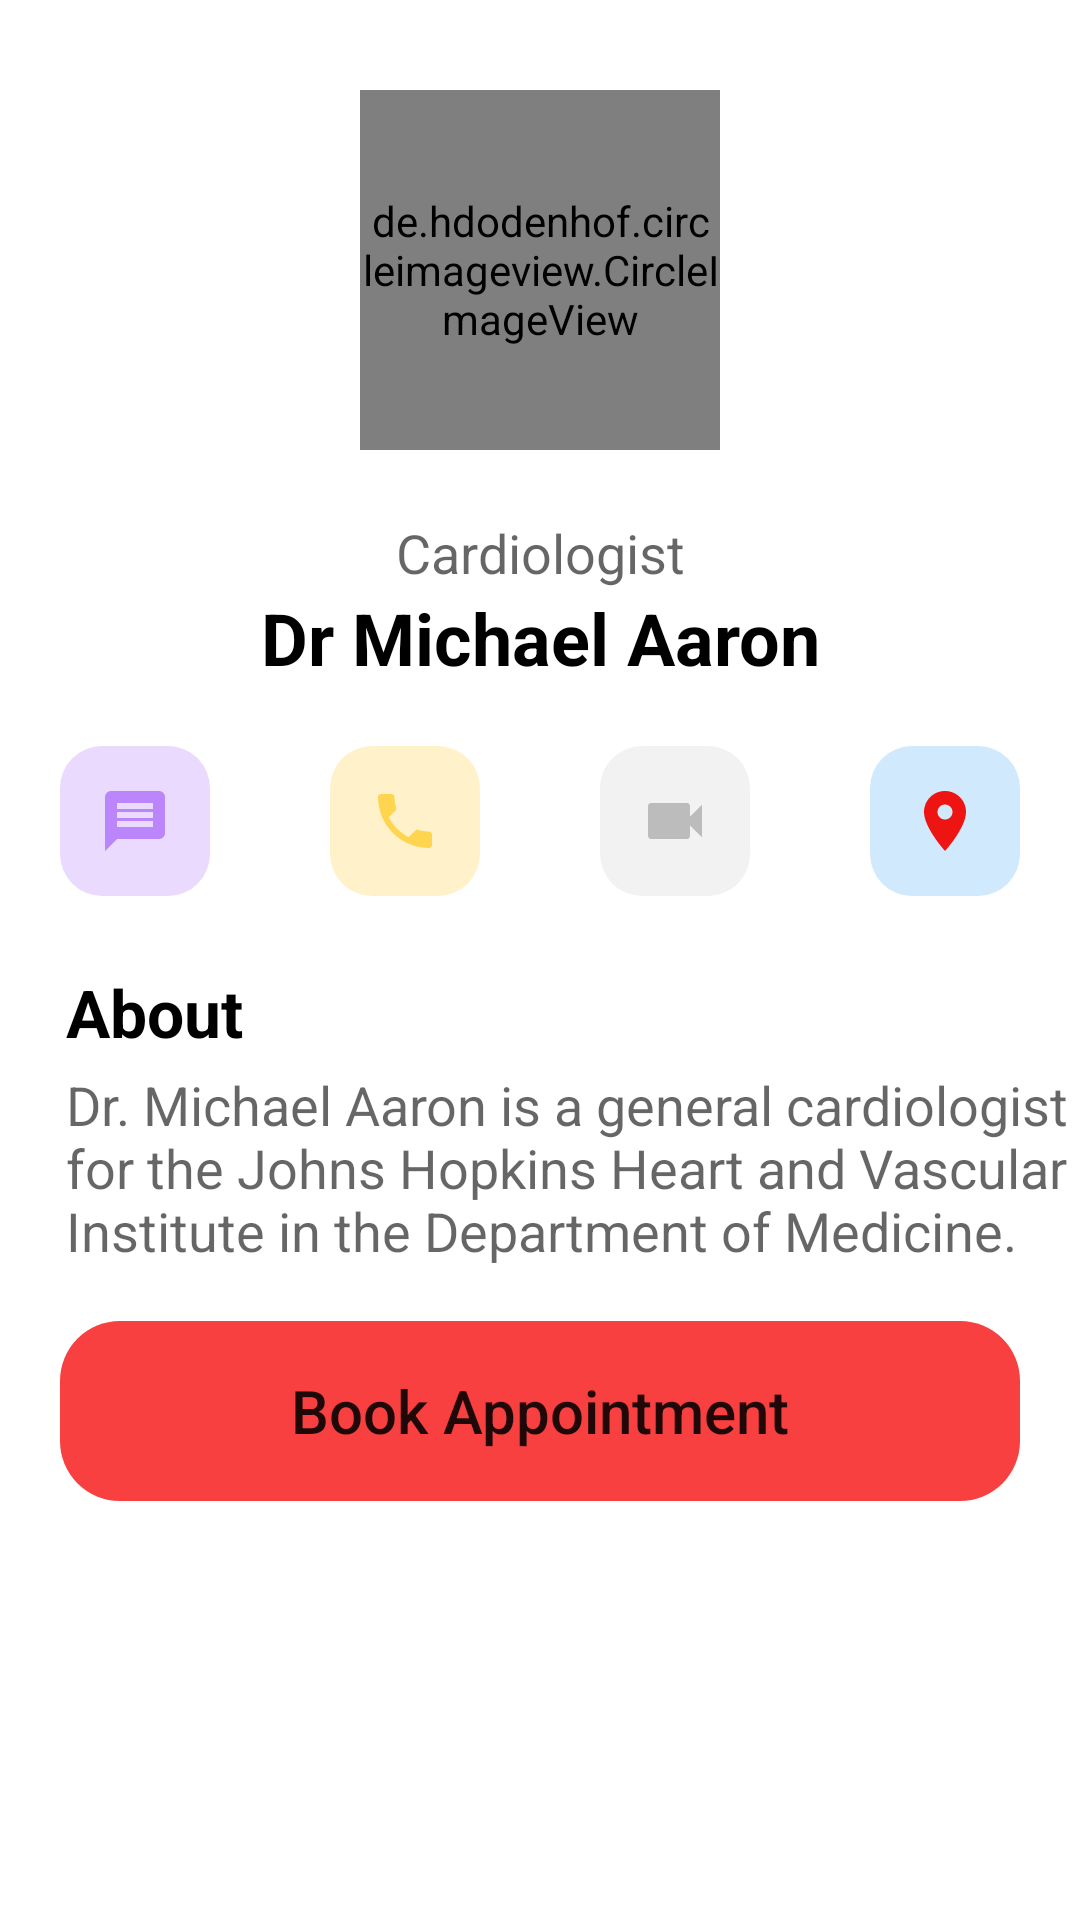

Where icons sit on this 1080*1920 app screen, as (x1, y1, x2, y2):
location on: (870, 746, 1020, 896)
message: (60, 746, 210, 896)
phone: (330, 746, 480, 896)
videocam: (648, 803, 702, 839)
